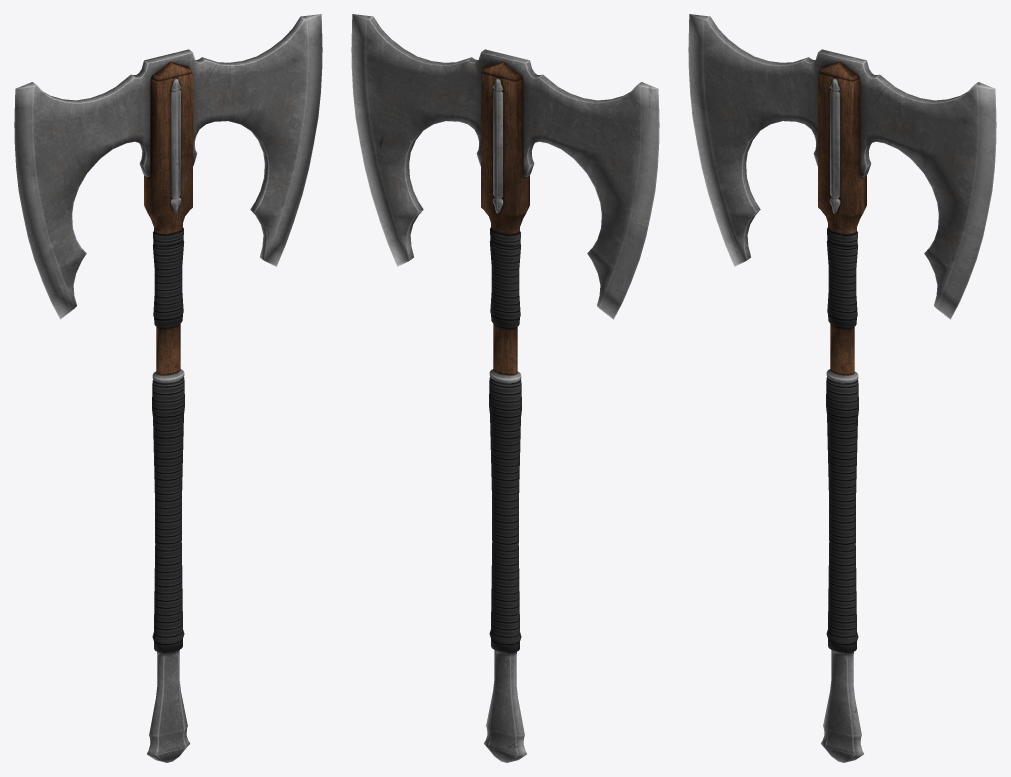
The model's file is SM_Axe_07.fbx.
3 views of the same model, side by side, from view 1: azimuth 30°, elevation 25°; view 2: azimuth 150°, elevation 25°; view 3: azimuth 330°, elevation 25° (orthographic).
Parts seen in each view (by area): view 1: SM_Axe_07_LOD0; view 2: SM_Axe_07_LOD0; view 3: SM_Axe_07_LOD0.
Boxes of the visible parts, x1,y1,x2,y2 form: SM_Axe_07_LOD0: [14, 14, 322, 762]; SM_Axe_07_LOD0: [351, 14, 659, 762]; SM_Axe_07_LOD0: [688, 14, 996, 762].
Size of the model in its own units: 48.6 by 4.71 by 107.
1 material, 1 textured.
